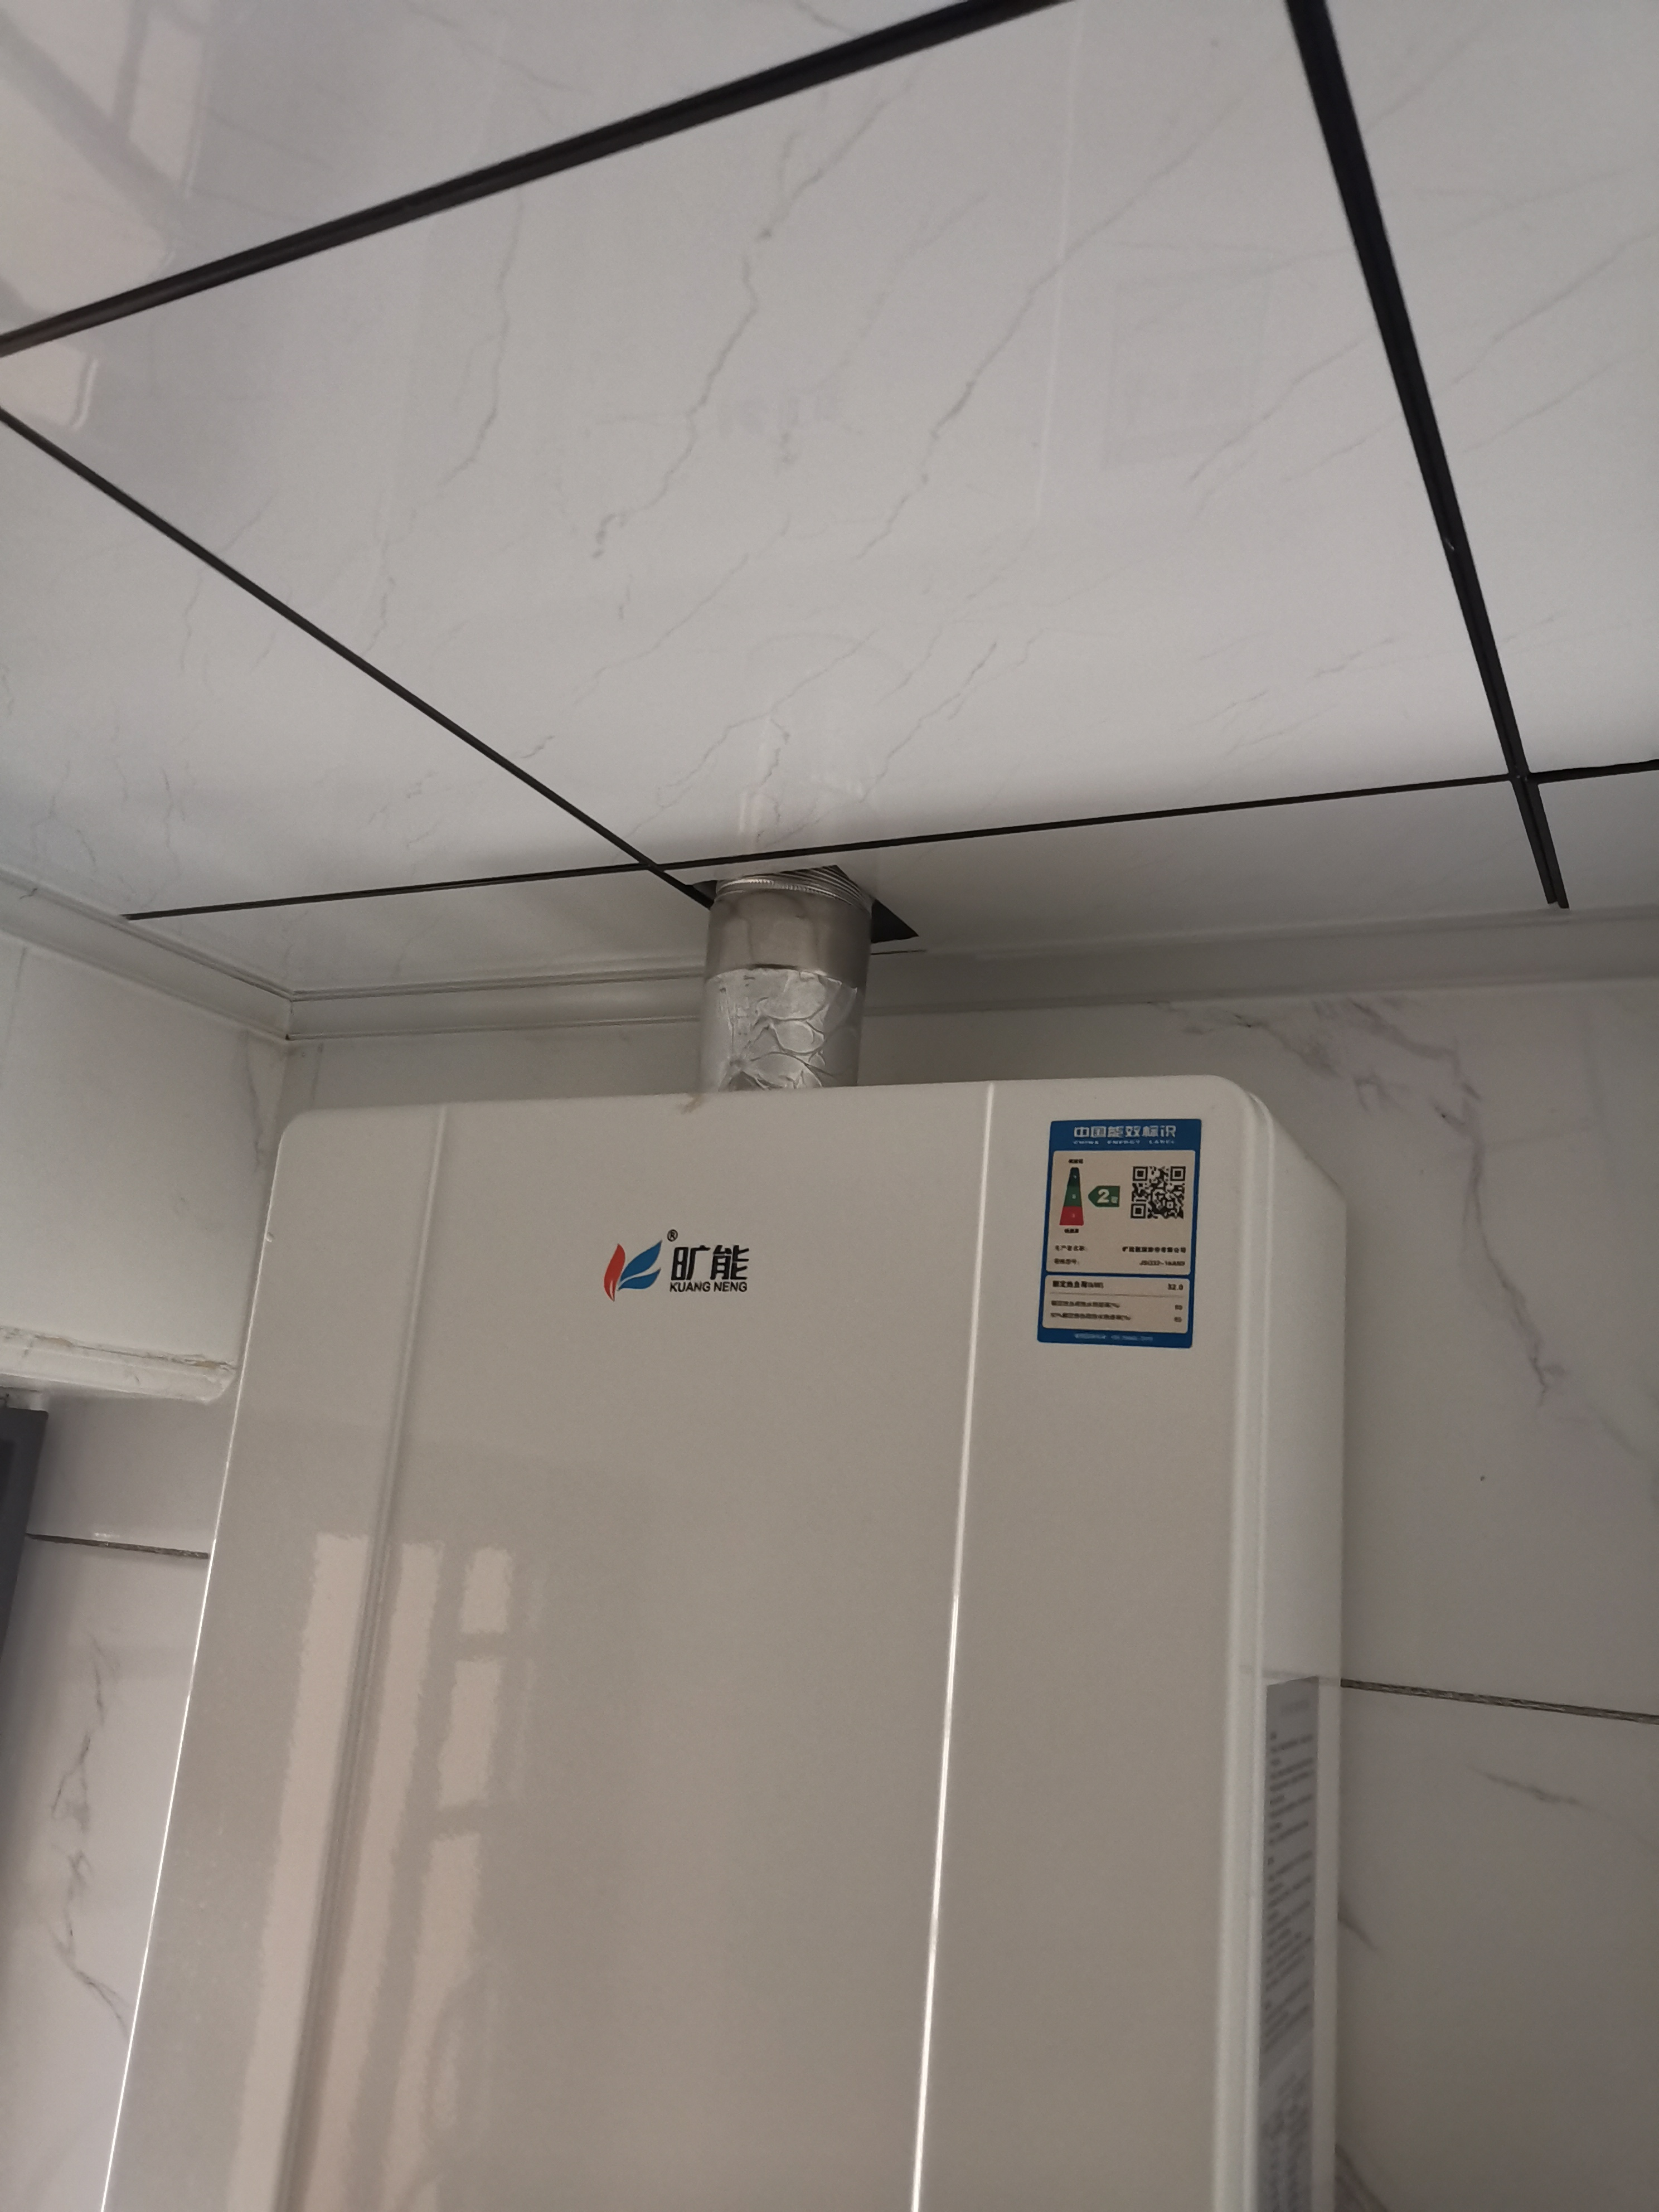loudou: (592, 1223, 762, 1308)
